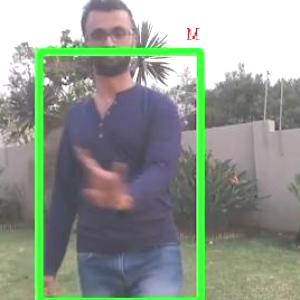takeoff-hand: (70, 146, 130, 207)
